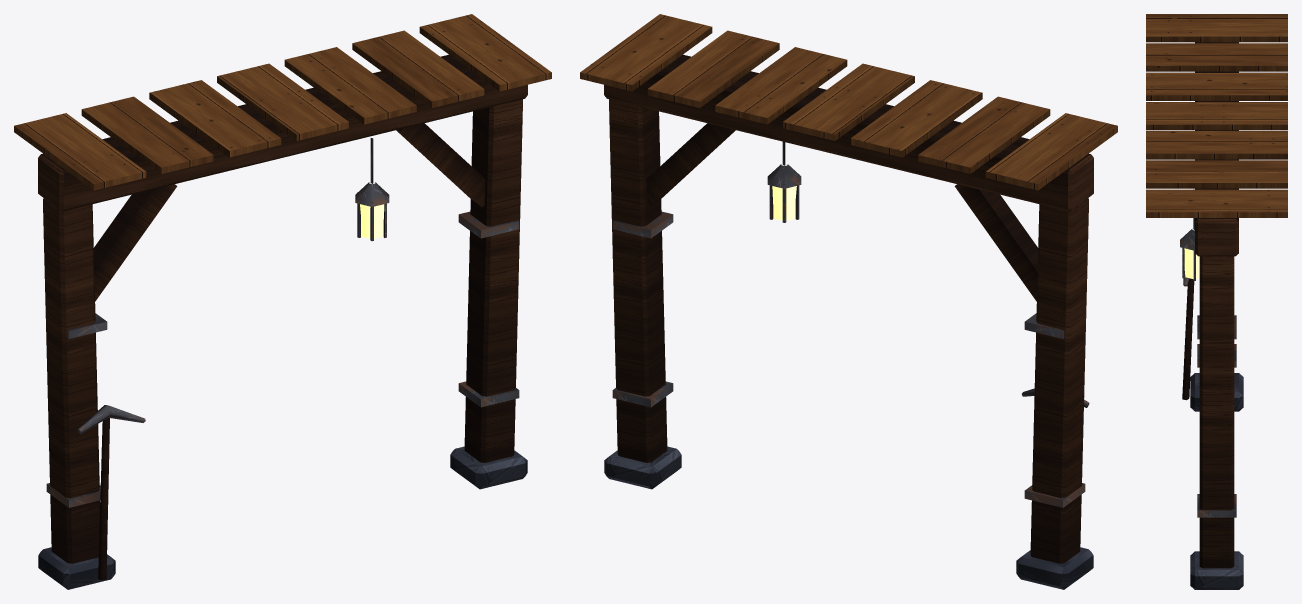
File: cave_mine_support.glb
3 views of the same model, side by side, from view 1: azimuth 30°, elevation 25°; view 2: azimuth 150°, elevation 25°; view 3: azimuth 270°, elevation 25° (orthographic). The views are drawn at different scales.
Parts seen in each view (by area): view 1: cave_mine_support; view 2: cave_mine_support; view 3: cave_mine_support.
Boxes of the visible parts, x1,y1,x2,y2 form: cave_mine_support: (14,14,551,589); cave_mine_support: (580,14,1117,589); cave_mine_support: (1146,14,1287,589).
Size of the model in its own units: 3.05 by 2.65 by 0.9.
5 materials, 4 textured.
